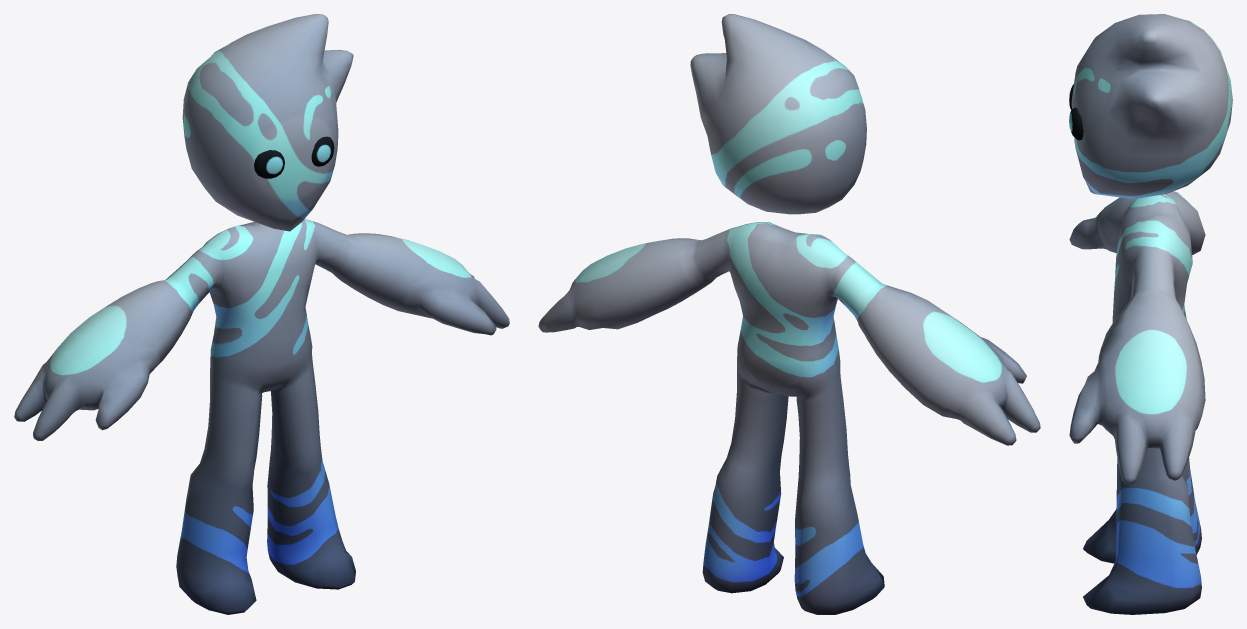
The model's file is PROTA.fbx.
3 renders of one model, left to right at view 1: azimuth 30°, elevation 25°; view 2: azimuth 150°, elevation 25°; view 3: azimuth 270°, elevation 25°, orthographic. The views are drawn at different scales.
Parts seen in each view (by area): view 1: Cuerpo, Cabeza, ojos; view 2: Cuerpo, Cabeza; view 3: Cuerpo, Cabeza, ojos.
Boxes of the visible parts, x1,y1,x2,y2 form: Cuerpo: (14, 218, 509, 614); Cabeza: (182, 14, 353, 231); ojos: (254, 136, 334, 178); Cuerpo: (538, 222, 1040, 614); Cabeza: (690, 14, 866, 214); Cuerpo: (1069, 191, 1205, 614); Cabeza: (1071, 14, 1232, 199); ojos: (1069, 84, 1083, 140).
Size of the model in its own units: 466 by 517 by 133.
1 material, 1 textured.
